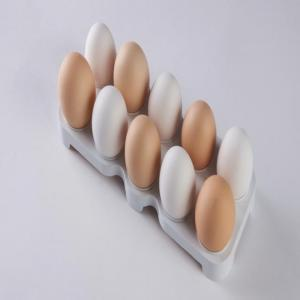Egg: (55, 42, 98, 144), (159, 133, 196, 234), (112, 31, 151, 124), (126, 101, 160, 206), (148, 58, 186, 150), (93, 74, 129, 168), (219, 114, 255, 206), (195, 172, 234, 255), (179, 94, 219, 172), (86, 16, 124, 92)
